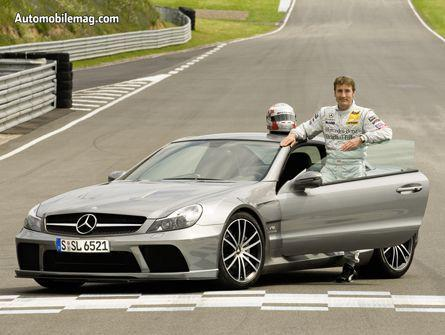Car: (7, 118, 442, 304)
